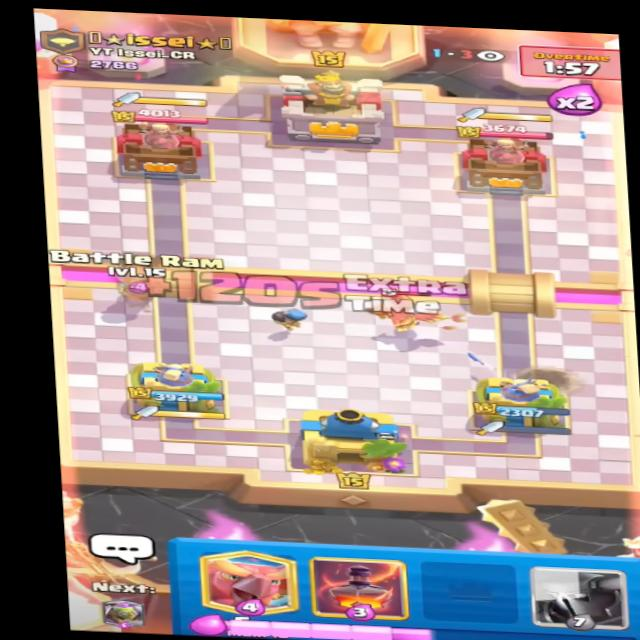Pheonix: (357, 286, 457, 331)
